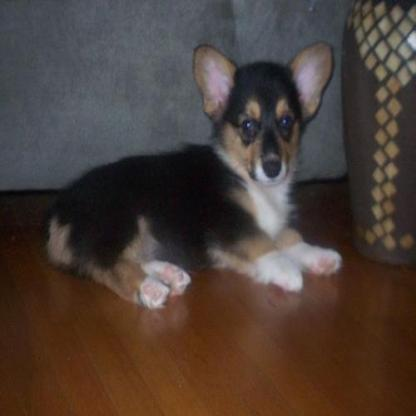Pembroke: (43, 38, 346, 310)
